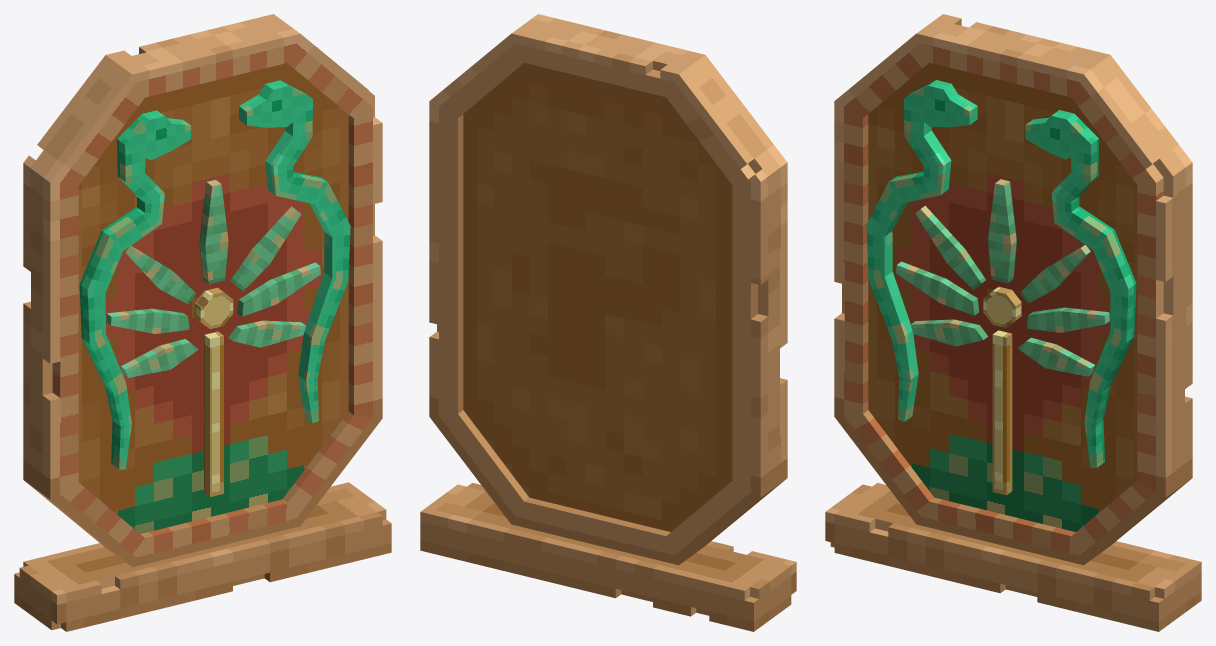
Rendered from Seshat_frond_03.gltf.
3 views of the same model, side by side, from view 1: azimuth 30°, elevation 25°; view 2: azimuth 150°, elevation 25°; view 3: azimuth 330°, elevation 25° (orthographic).
Visible parts, largest first — view 1: Seshat_backplate, snake_left, snake_right, frond_center, frond_right, frond_left; view 2: Seshat_backplate; view 3: Seshat_backplate, snake_right, snake_left, frond_center, frond_left, frond_right.
Boxes of the visible parts, x1,y1,x2,y2 form: Seshat_backplate: [14, 14, 391, 631]; snake_left: [79, 110, 191, 469]; snake_right: [239, 80, 350, 423]; frond_center: [194, 179, 233, 496]; frond_right: [228, 206, 320, 347]; frond_left: [106, 246, 198, 377]; Seshat_backplate: [420, 14, 796, 631]; Seshat_backplate: [825, 14, 1201, 631]; snake_right: [1025, 110, 1136, 467]; snake_left: [866, 80, 977, 421]; frond_center: [983, 179, 1021, 495]; frond_left: [896, 205, 987, 346]; frond_right: [1018, 245, 1109, 376].
Size of the model in its own units: 1.12 by 1.71 by 0.25.
1 material, 1 textured.
